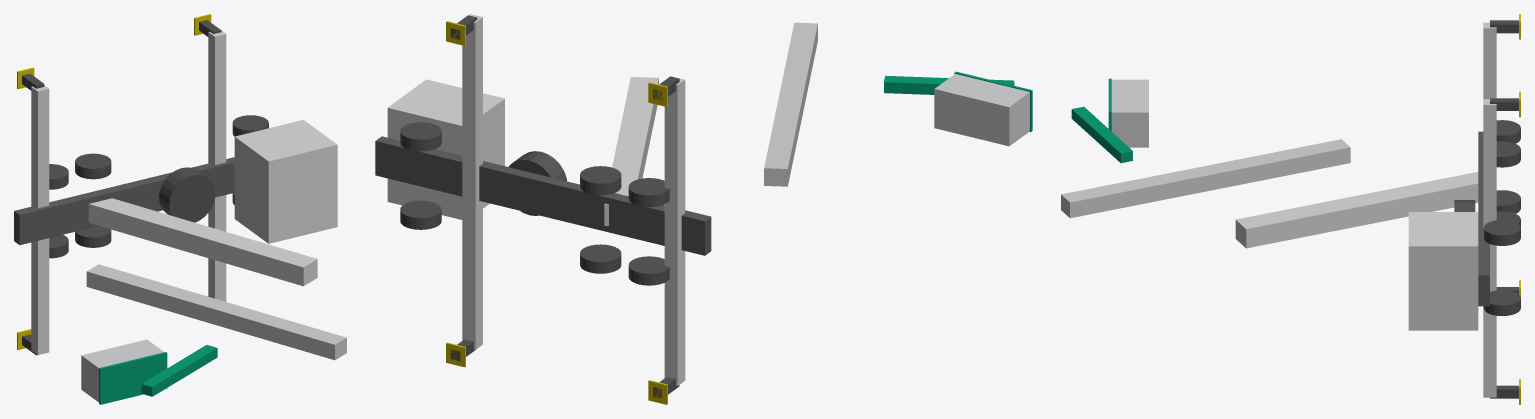
The model's file is enmax_emgd24_aerial_platform.glb.
3 renders of one model, left to right at view 1: azimuth 30°, elevation 25°; view 2: azimuth 150°, elevation 25°; view 3: azimuth 270°, elevation 25°, orthographic. The views are drawn at different scales.
Parts seen in each view (by area): view 1: emgd24_cabin, main_boom_section_1, main_boom_section_2_ext, emgd24_chassis, rear_v_outrigger_beam_7680mm, front_h_outrigger_beam_8350mm, turntable_360, basket_rail_green, aluminium_basket_400kg_2000x1000, negative_reach_articulated_jib_3m, emgd24_wheel_-1.8_1.0, emgd24_wheel_-1.8_-1.0 (+3 smaller); view 2: emgd24_chassis, emgd24_cabin, front_h_outrigger_beam_8350mm, rear_v_outrigger_beam_7680mm, aluminium_basket_400kg_2000x1000, main_boom_section_2_ext, main_boom_section_1, emgd24_wheel_3.0_1.0, emgd24_wheel_-1.8_-1.0, emgd24_wheel_3.0_-1.0, emgd24_wheel_-1.8_1.0, negative_reach_articulated_jib_3m (+3 smaller); view 3: emgd24_cabin, main_boom_section_2_ext, main_boom_section_1, front_h_outrigger_beam_8350mm, aluminium_basket_400kg_2000x1000, emgd24_chassis, negative_reach_articulated_jib_3m, rear_v_outrigger_beam_7680mm, emgd24_wheel_3.0_1.0, emgd24_wheel_3.0_-1.0, emgd24_wheel_-1.8_1.0, emgd24_wheel_-3.1_1.0 (+1 smaller).
Part boxes in pixels (bbox=[...]): emgd24_cabin: bbox=[234, 120, 337, 243]; main_boom_section_1: bbox=[88, 198, 317, 286]; main_boom_section_2_ext: bbox=[86, 264, 346, 360]; emgd24_chassis: bbox=[14, 157, 234, 244]; rear_v_outrigger_beam_7680mm: bbox=[31, 85, 49, 354]; front_h_outrigger_beam_8350mm: bbox=[208, 31, 226, 301]; turntable_360: bbox=[159, 167, 215, 222]; basket_rail_green: bbox=[99, 352, 167, 404]; aluminium_basket_400kg_2000x1000: bbox=[81, 339, 163, 402]; negative_reach_articulated_jib_3m: bbox=[141, 345, 217, 396]; emgd24_wheel_-1.8_1.0: bbox=[75, 153, 111, 179]; emgd24_wheel_-1.8_-1.0: bbox=[75, 226, 111, 247]; emgd24_chassis: bbox=[375, 136, 711, 255]; emgd24_cabin: bbox=[387, 79, 504, 219]; front_h_outrigger_beam_8350mm: bbox=[462, 14, 482, 349]; rear_v_outrigger_beam_7680mm: bbox=[664, 76, 685, 385]; aluminium_basket_400kg_2000x1000: bbox=[934, 74, 1029, 146]; main_boom_section_2_ext: bbox=[764, 22, 817, 186]; main_boom_section_1: bbox=[604, 77, 658, 225]; emgd24_wheel_3.0_1.0: bbox=[400, 122, 441, 151]; emgd24_wheel_-1.8_-1.0: bbox=[580, 244, 621, 273]; emgd24_wheel_3.0_-1.0: bbox=[400, 200, 441, 229]; emgd24_wheel_-1.8_1.0: bbox=[580, 166, 621, 195]; negative_reach_articulated_jib_3m: bbox=[884, 75, 1014, 94]; emgd24_cabin: bbox=[1408, 212, 1478, 330]; main_boom_section_2_ext: bbox=[1061, 139, 1350, 218]; main_boom_section_1: bbox=[1235, 172, 1478, 248]; front_h_outrigger_beam_8350mm: bbox=[1483, 99, 1496, 397]; aluminium_basket_400kg_2000x1000: bbox=[1111, 79, 1148, 147]; emgd24_chassis: bbox=[1478, 131, 1489, 306]; negative_reach_articulated_jib_3m: bbox=[1071, 106, 1132, 163]; rear_v_outrigger_beam_7680mm: bbox=[1483, 22, 1496, 98]; emgd24_wheel_3.0_1.0: bbox=[1483, 220, 1520, 245]; emgd24_wheel_3.0_-1.0: bbox=[1483, 290, 1520, 316]; emgd24_wheel_-1.8_1.0: bbox=[1496, 141, 1520, 167]; emgd24_wheel_-3.1_1.0: bbox=[1496, 120, 1520, 143].
Size of the model in its own units: 11.86 by 8.7 by 11.89.
